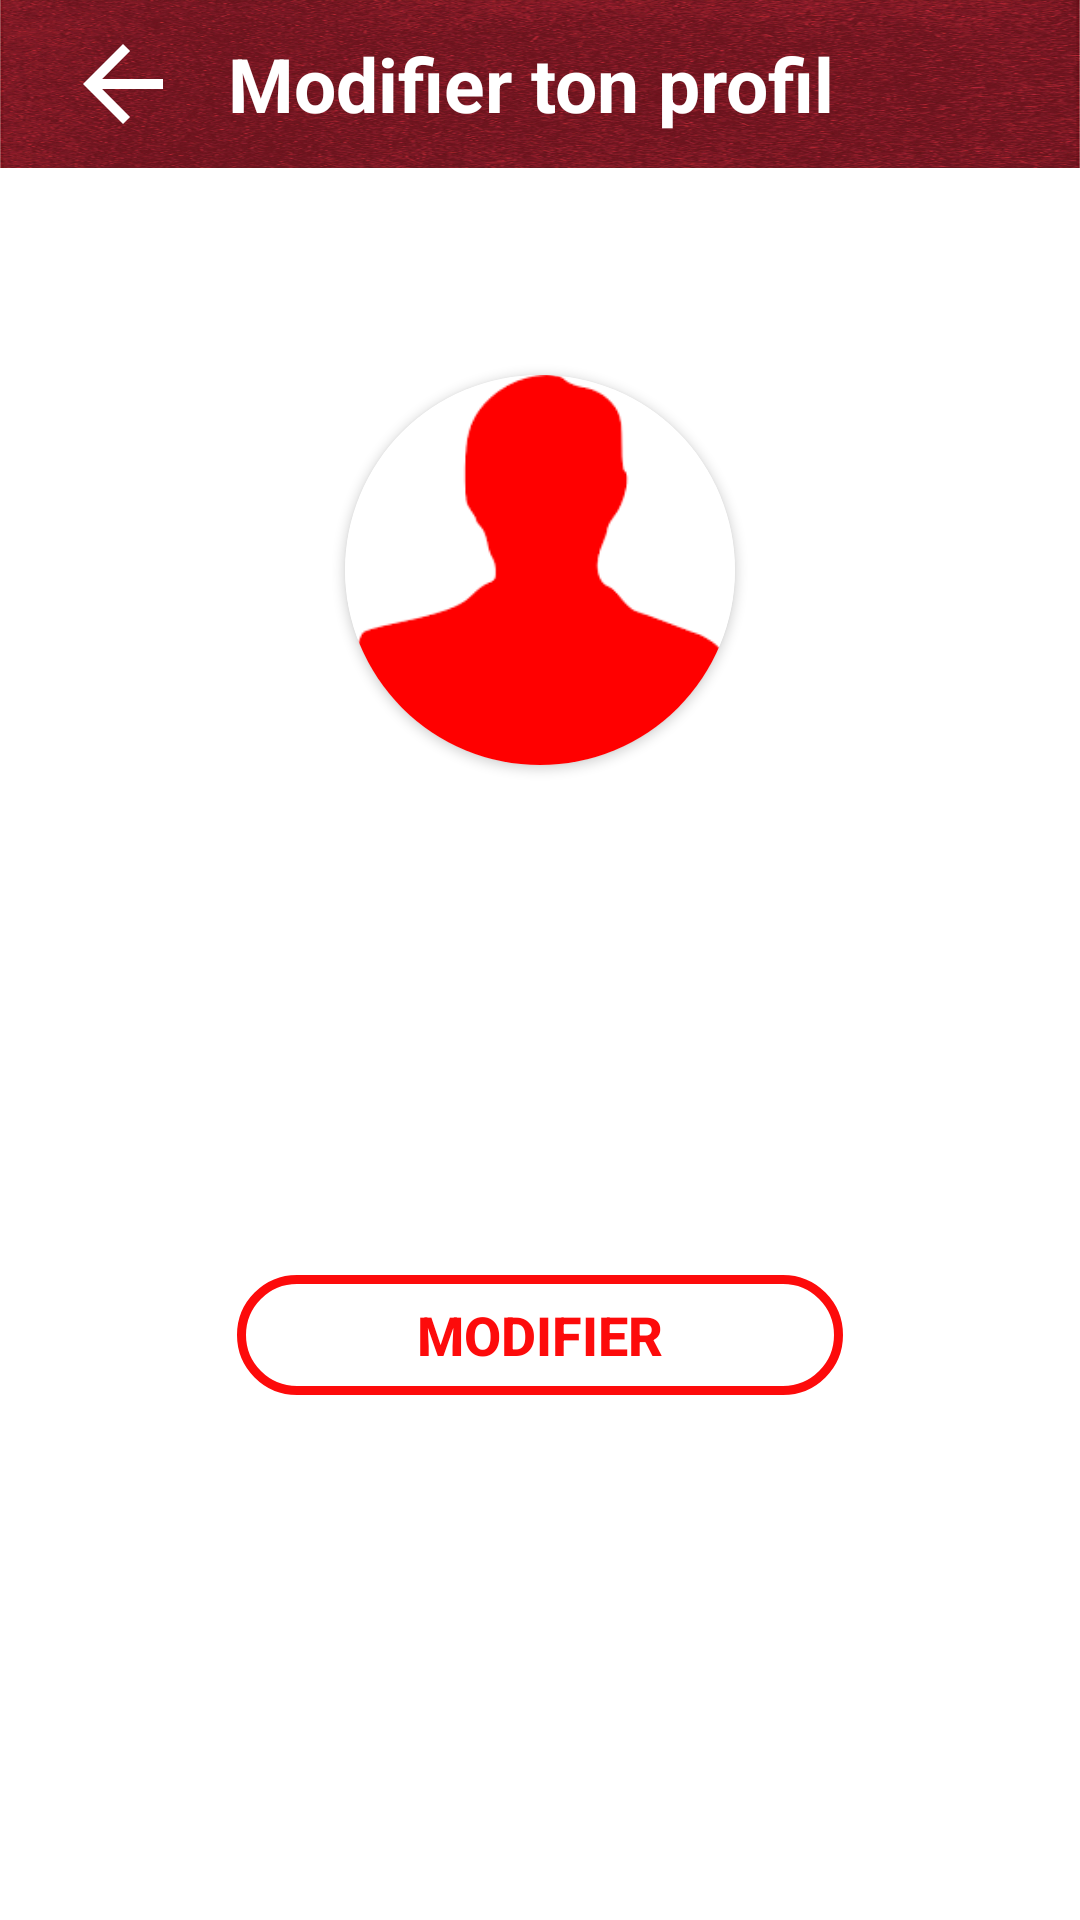

Screen size 1080x1920. Icon name, then its center in pixels as [x,y]:
arrow back: [123,84]
